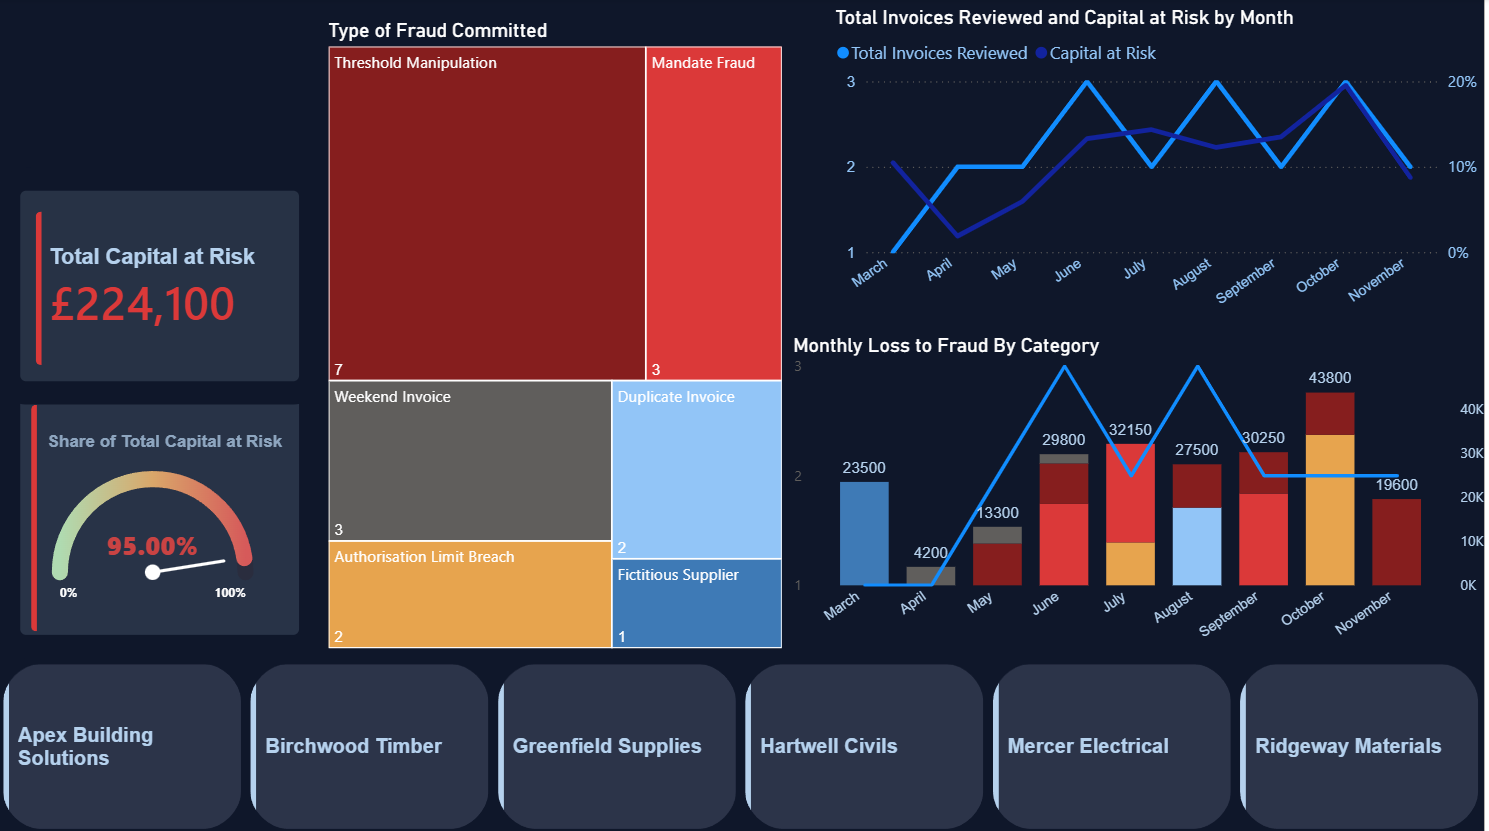

The page's visual inventory and layout, read from the dashboard file:
{"tool":"powerbi","page":{"name":"Risk Typology and Suppliers","canvas":[1280,720],"ordinal":1},"visuals":[{"type":"lineStackedColumnComboChart","title":"Monthly Loss to Fraud By Category","fields":{"Category":["invoice_data.invoice_date.Variation.Date Hierarchy.Month","invoice_data.invoice_date.Variation.Date Hierarchy.Day"],"Y":["Sum(invoice_data.amount_gbp)"],"Series":["invoice_data.fraud_category"],"Y2":["invoice_data.Flagged Invoices"]},"box":[680,268,600,300],"z":1000},{"type":"cardVisual","title":"% SVG","fields":{"Data":["invoice_data.SpendGaugeSVG"]},"box":[0,320,280,248],"z":2000},{"type":"cardVisual","title":"Total Capital At Risk","fields":{"Data":["invoice_data.Total Value at Risk"]},"box":[0,146,280,204],"z":3000},{"type":"treemap","title":"Type of Fraud Committed ","fields":{"Group":["invoice_data.fraud_category"],"Values":["invoice_data.Flagged Invoices"]},"box":[280,6,400,558],"z":4000},{"type":"lineChart","fields":{"Category":["invoice_data.invoice_date.Variation.Date Hierarchy.Month"],"Y2":["invoice_data.Total Value at Risk"],"Y":["invoice_data.Total Invoices Reviewed"]},"box":[716,6,564,278],"z":5000},{"type":"advancedSlicerVisual","fields":{"Values":["invoice_data.supplier_name"]},"box":[0,568,1280,152],"z":6000}]}

Visuals, with their boxes in screenshot pixels (x1, y1, x2, y2), scaled from the page's 1280x720 canvas onto the 1489x831 screenshot:
"Monthly Loss to Fraud By Category" lineStackedColumnComboChart: select_region(791, 309, 1488, 656)
"% SVG" cardVisual: select_region(0, 369, 326, 656)
"Total Capital At Risk" cardVisual: select_region(0, 169, 326, 404)
"Type of Fraud Committed " treemap: select_region(326, 7, 791, 651)
lineChart - invoice_data.invoice_date.Variation.Date Hierarchy.Month x invoice_data.Total Value at Risk: select_region(833, 7, 1488, 328)
advancedSlicerVisual - invoice_data.supplier_name: select_region(0, 656, 1488, 830)
